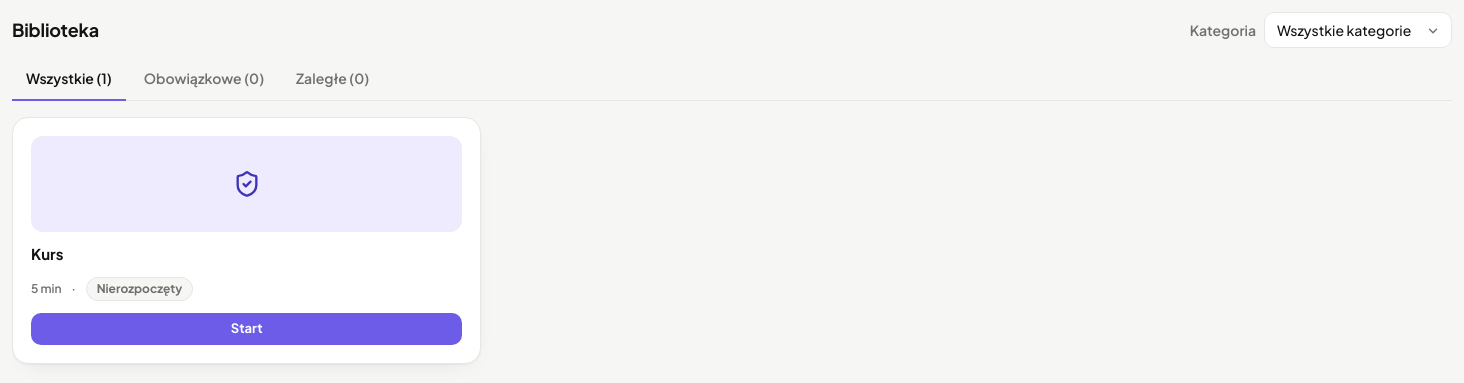
Test: CourseLibrary - filtrowanie klienckie po zakładkach › pokazuje komunikat o braku kursów, gdy filtr nie zwraca wyników
Click the tab "Zaległe (0)".
click(333, 80)  # box [282,58,383,101]
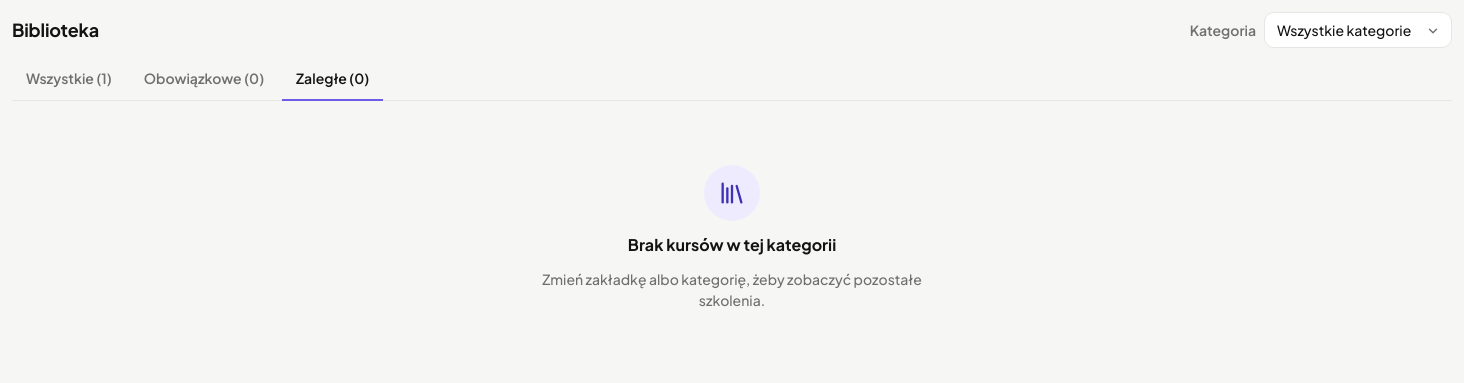
Result: the heading "Brak kursów w tej kategorii" is shown at [628,233,836,257]
